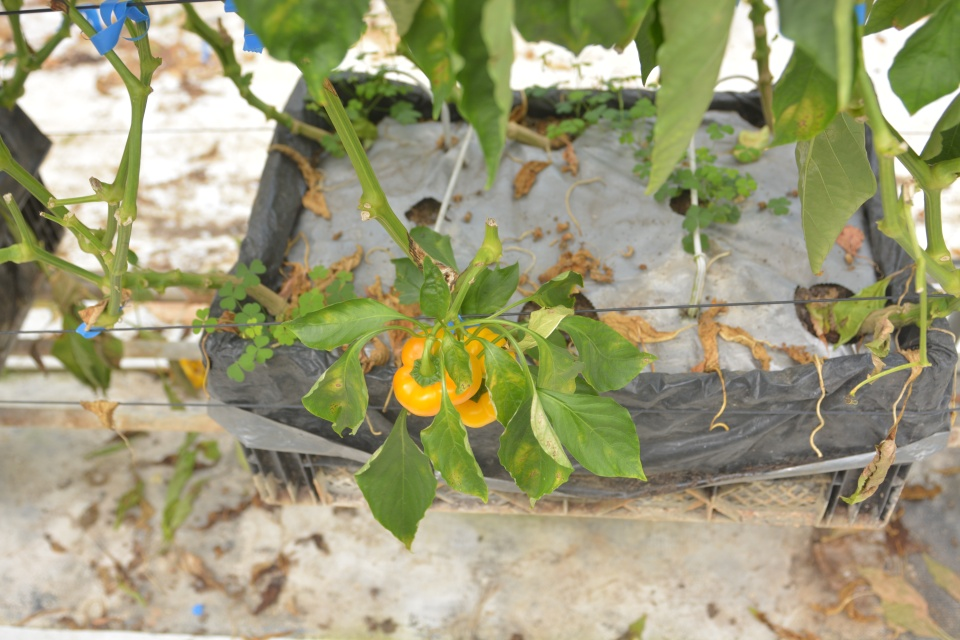fruit: (391, 327, 482, 418), (452, 324, 516, 429)
pedicle: (409, 352, 441, 388)
